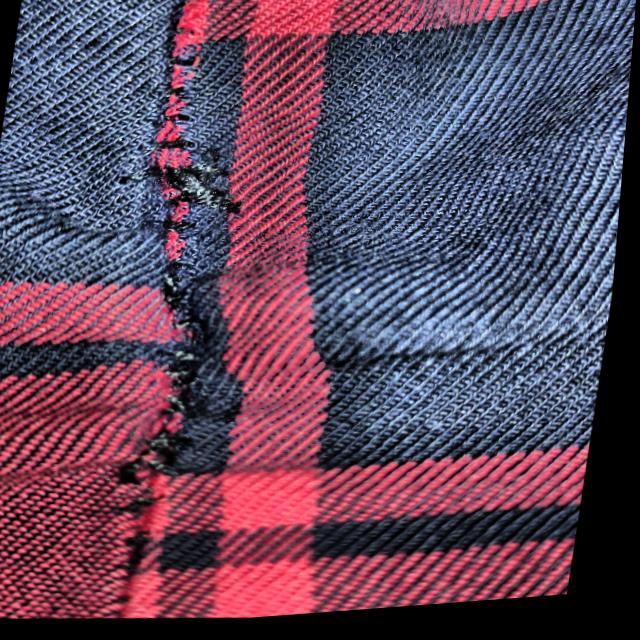Stitch: (68, 27, 278, 582)
